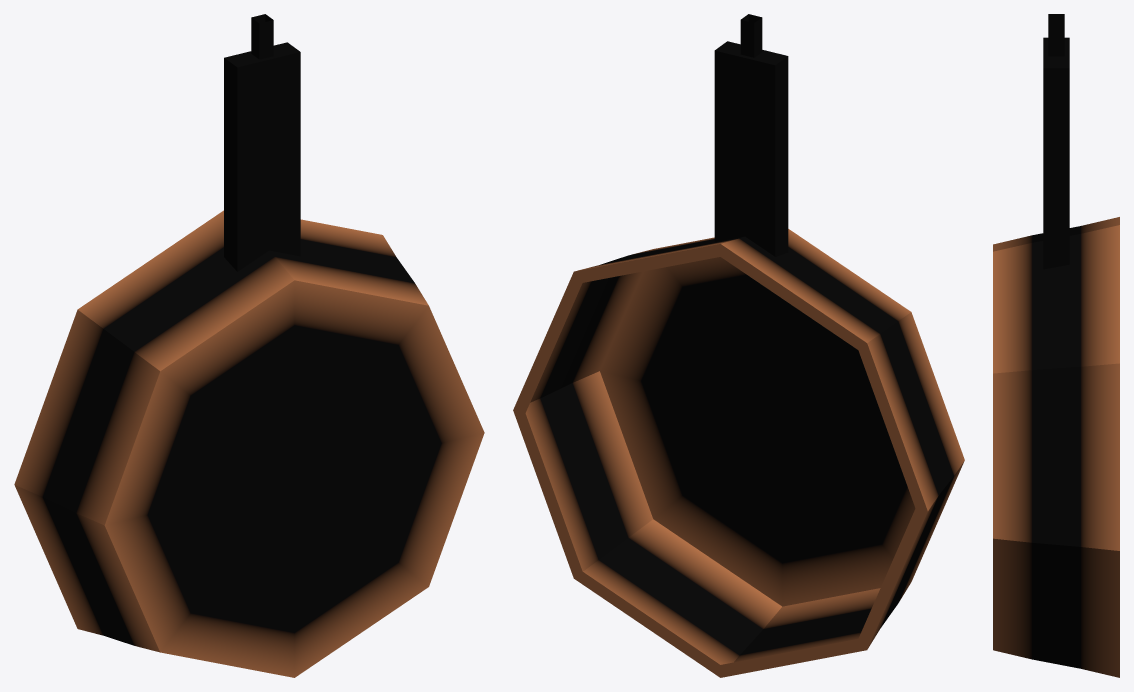
The model's file is copper_pan_75.glb.
3 renders of one model, left to right at view 1: azimuth 30°, elevation 25°; view 2: azimuth 150°, elevation 25°; view 3: azimuth 270°, elevation 25°, orthographic. The views are drawn at different scales.
Parts seen in each view (by area): view 1: copper, iron; view 2: copper, iron; view 3: copper, iron.
Part boxes in pixels (x1,y1,x2,y2): copper: (14,210,484,677); iron: (224,14,300,271); copper: (513,229,964,677); iron: (714,14,788,256); copper: (993,217,1119,677); iron: (1043,14,1069,269).
Bounding box in the file's own units: 0.15 × 0.22 × 0.0388.
